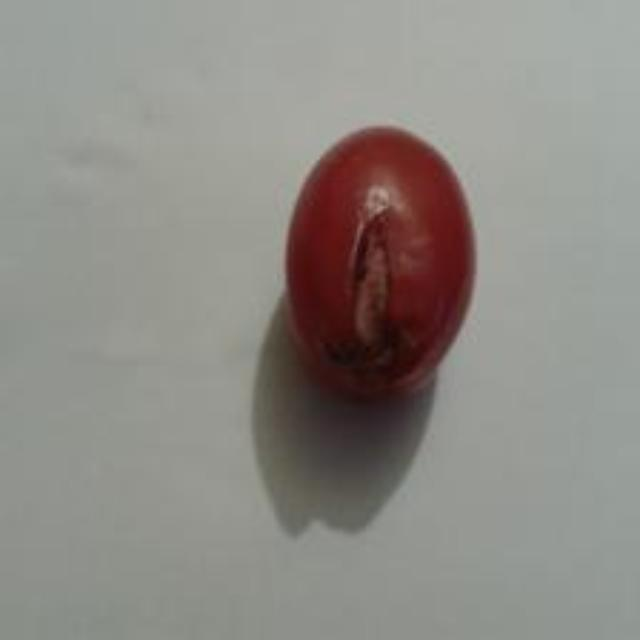defect: (270, 118, 491, 409)
